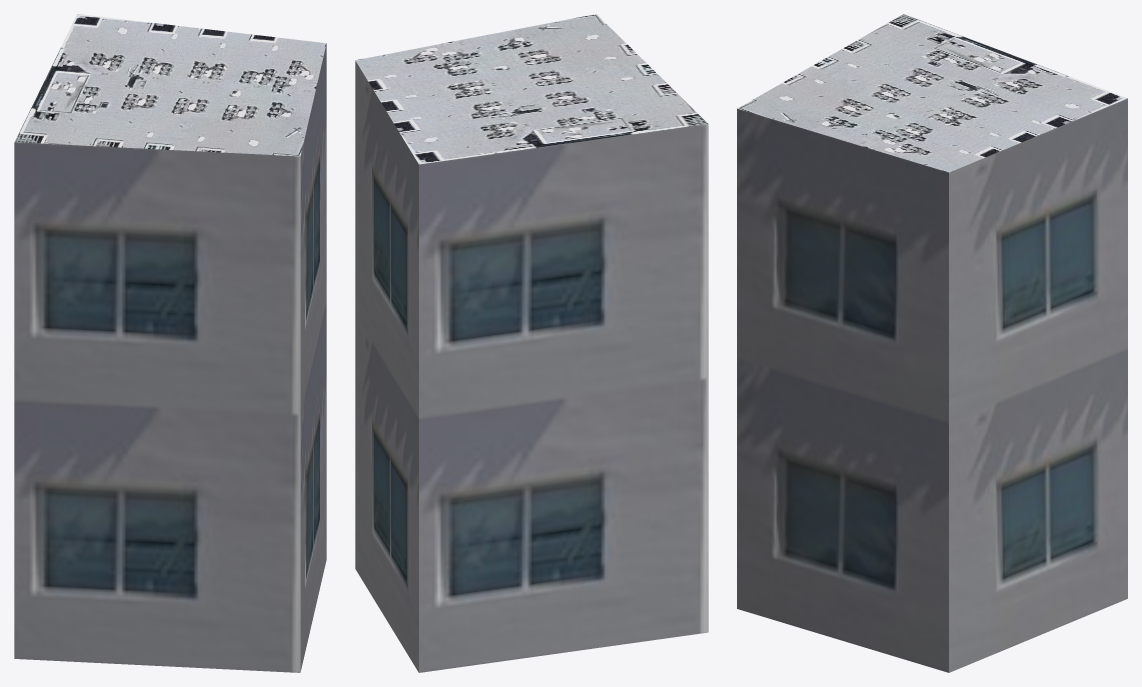
File: ResTex__4284.fbx
The picture shows the model from 3 angles, left to right: view 1: azimuth 30°, elevation 25°; view 2: azimuth 150°, elevation 25°; view 3: azimuth 270°, elevation 25°; orthographic projection. The views are drawn at different scales.
Parts seen in each view (by area): view 1: CityEngineMaterial_10_m, CityEngineMaterial_4_m; view 2: CityEngineMaterial_10_m, CityEngineMaterial_4_m; view 3: CityEngineMaterial_10_m, CityEngineMaterial_4_m.
Boxes of the visible parts, x1,y1,x2,y2 form: CityEngineMaterial_10_m: (14,44,326,672); CityEngineMaterial_4_m: (14,14,326,156); CityEngineMaterial_10_m: (355,61,708,672); CityEngineMaterial_4_m: (355,14,708,164); CityEngineMaterial_10_m: (737,98,1127,672); CityEngineMaterial_4_m: (737,14,1127,172).
Bounding box in the file's own units: 4.08 × 6 × 4.25.
Materials: 2 (2 with a texture image).
